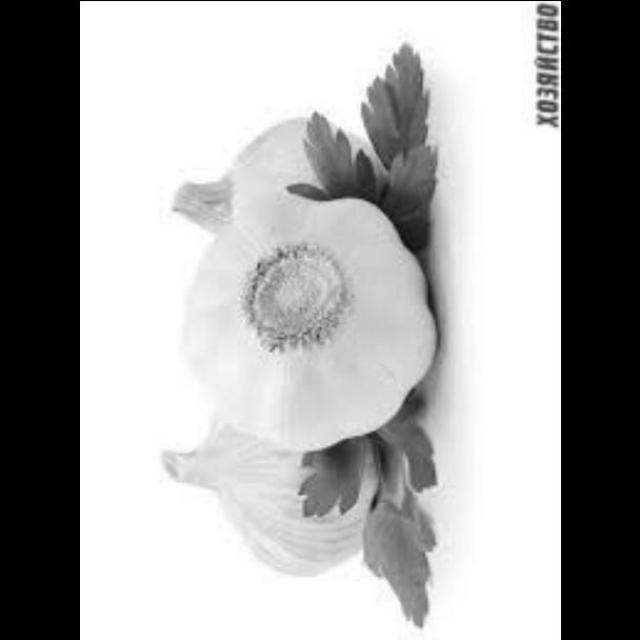toi: (170, 183, 432, 457), (154, 408, 378, 584), (166, 103, 379, 260)
